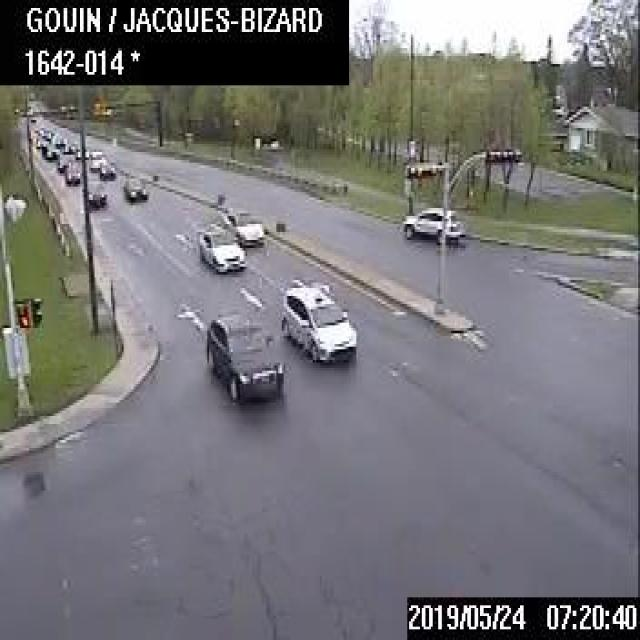vehicle: (206, 309, 282, 405), (282, 284, 356, 364), (401, 204, 461, 243), (198, 226, 245, 272), (220, 208, 262, 245), (80, 179, 106, 207), (122, 175, 147, 200), (98, 158, 115, 179), (64, 164, 79, 183), (87, 149, 101, 169), (56, 154, 70, 170), (74, 145, 88, 158), (44, 145, 59, 157), (34, 135, 44, 147)
